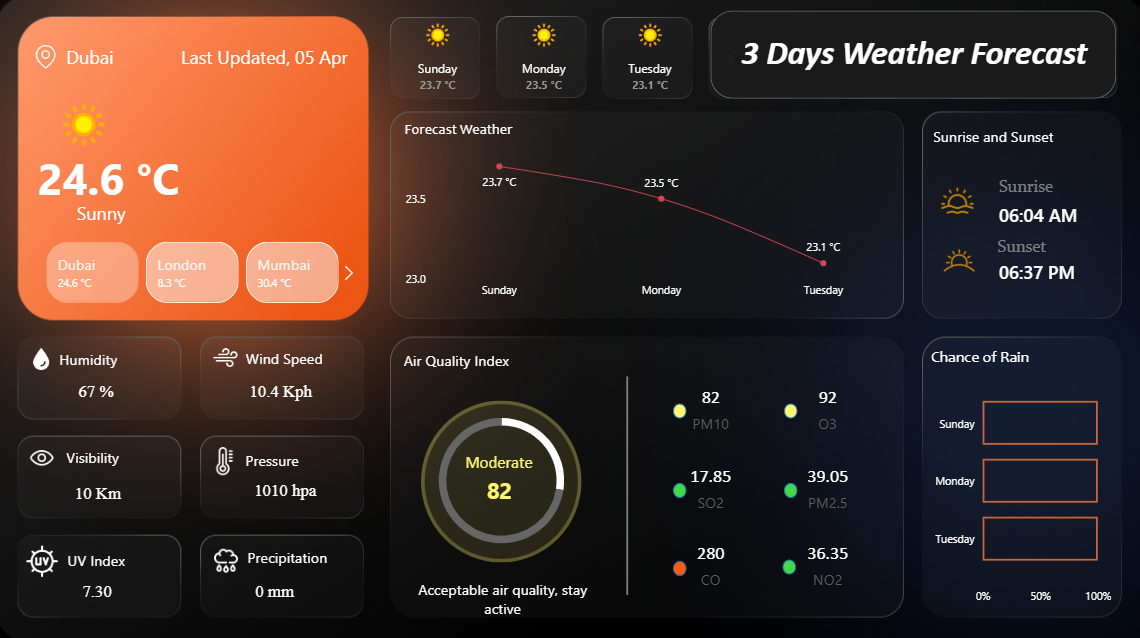

What the dashboard file says about the page in this screenshot:
{"tool":"powerbi","page":{"name":"Weather_Dashboard","canvas":[1280,720],"ordinal":0},"visuals":[{"type":"advancedSlicerVisual","fields":{"Values":["Location.location.name"]},"box":[30.9,266.8,377.4,78.1],"z":0},{"type":"shape","box":[39,136.6,226.1,126.9],"z":1000},{"type":"shape","box":[39,221.2,159.4,35.8],"z":2000},{"type":"shape","box":[177.3,48.8,218,35.8],"z":3000},{"type":"shape","box":[76.4,48.8,178.9,35.8],"z":4000},{"type":"image","box":[43.9,50.4,26,32.5],"z":5000},{"type":"cardVisual","fields":{"Data":["Min(Current.current.condition.icon)"]},"box":[21.4,0,167.1,200],"z":6000},{"type":"image","box":[36.6,496.9,30.8,30.8],"z":7000},{"type":"image","box":[241.4,380,28.6,41.4],"z":8000},{"type":"image","box":[38.6,387.1,25.7,31.4],"z":9000},{"type":"image","box":[234.3,610,42.9,32.9],"z":10000},{"type":"image","box":[207.1,500,97.1,31.4],"z":11000},{"type":"image","box":[11.4,608.6,81.4,37.1],"z":12000},{"type":"shape","box":[9.8,385.5,128.5,34.2],"z":13000},{"type":"shape","box":[239.1,383.9,128.5,34.2],"z":14000},{"type":"shape","box":[17.9,610,128.5,32.5],"z":15000},{"type":"shape","box":[13.5,493,127.1,34.7],"z":16000},{"type":"shape","box":[211.5,496.1,128.5,34.2],"z":17000},{"type":"shape","box":[244,605.1,128.5,34.2],"z":18000},{"type":"card","fields":{"Values":["_Measure.Humidity"]},"box":[45.1,407.8,133.5,61.4],"z":19000},{"type":"card","fields":{"Values":["_Measures.Wind_Speed"]},"box":[265.1,405,104.1,66.7],"z":20000},{"type":"card","fields":{"Values":["_Measure.Visibility"]},"box":[61.4,517.9,104.7,66.8],"z":21000},{"type":"card","fields":{"Values":["_Measure.Pressure"]},"box":[270,515.6,104.1,66.7],"z":22000},{"type":"card","fields":{"Values":["_Measure.UV_Index"]},"box":[61.4,628,102.9,65],"z":23000},{"type":"card","fields":{"Values":["_Measure.Precipitation"]},"box":[258,628,104,66],"z":24000},{"type":"advancedSlicerVisual","fields":{"Values":["Forecast_Day.Day_Name"]},"box":[432,14,356,110],"z":25000},{"type":"lineChart","title":"Forecast Weather","fields":{"Y":["Sum(Forecast_Day.forecast.forecastday.day.avgtemp_c)"],"Category":["Forecast_Day.Day_Name"]},"box":[450.8,137.2,547,206.7],"z":26000},{"type":"shape","box":[1040,138.3,205,33.3],"z":27000},{"type":"shape","box":[1112.6,226.1,144.8,30.9],"z":28000},{"type":"shape","box":[1112.6,289.5,144.8,30.9],"z":29000},{"type":"shape","box":[1112.8,194.9,144.8,30.9],"z":30000},{"type":"shape","box":[1112,262,146,32],"z":31000},{"type":"image","box":[1048,268,46,48],"z":32000},{"type":"image","box":[1045.9,208.2,45.5,35.8],"z":33000},{"type":"hundredPercentStackedBarChart","title":"Chance of Rain","fields":{"Y":["Avg(Forecast_Day.forecast.forecastday.day.daily_chance_of_rain)","_Measures.Left_value_rain"],"Category":["Forecast_Day.Day_Name"]},"box":[1035,388.3,210,295],"z":34000},{"type":"shape","box":[451.7,386.7,205,33.3],"z":35000},{"type":"card","fields":{"Values":["Sum(Current.current.air_quality.o3)"]},"box":[873.3,421.7,103.3,66.7],"z":36000},{"type":"card","fields":{"Values":["Sum(Current.current.air_quality.so2)"]},"box":[743.3,510,103.3,66.7],"z":37000},{"type":"card","fields":{"Values":["Sum(Current.current.air_quality.no2)"]},"box":[873.3,595,103.3,66.7],"z":38000},{"type":"card","fields":{"Values":["Sum(Current.current.air_quality.pm2_5)"]},"box":[873.3,510,103.3,66.7],"z":39000},{"type":"card","fields":{"Values":["Sum(Current.current.air_quality.pm10)"]},"box":[743.3,421.7,103.3,66.7],"z":40000},{"type":"card","fields":{"Values":["Sum(Current.current.air_quality.co)"]},"box":[743.3,595,103.3,66.7],"z":41000},{"type":"shape","box":[473.3,448.3,178.3,180],"z":42000},{"type":"card","fields":{"Values":["Sum(Current.current.air_quality.pm10)"]},"box":[508.3,505,103.3,66.7],"z":43000},{"type":"shape","box":[672.1,421.8,61.6,242.7],"z":44000},{"type":"donutChart","fields":{"Y":["Sum(Current.current.air_quality.pm10)","_Measure.Left_Value_PM10"]},"box":[454.7,445.7,214.7,184.1],"z":45000},{"type":"shape","box":[461.7,641.7,205,53.3],"z":46000},{"type":"shape","box":[753.3,451.7,15,16.7],"z":47000},{"type":"shape","box":[753.3,626.7,15,16.7],"z":48000},{"type":"shape","box":[753.3,540,15,16.7],"z":49000},{"type":"shape","box":[876.7,451.7,15,16.7],"z":50000},{"type":"shape","box":[876.7,540,15,16.7],"z":51000},{"type":"shape","box":[875,625,15,16.7],"z":52000},{"type":"shape","box":[794.7,14.3,450.8,98],"z":53000},{"type":"textbox","box":[787.6,33.9,450.8,92.7],"z":54000}]}

Visuals, with their boxes in screenshot pixels (x1, y1, x2, y2), scaled from the page's 1280x720 canvas onto the 1140x638 screenshot:
advancedSlicerVisual - Location.location.name: x1=28 y1=236 x2=364 y2=306
shape: x1=35 y1=121 x2=236 y2=233
shape: x1=35 y1=196 x2=177 y2=228
shape: x1=158 y1=43 x2=352 y2=75
shape: x1=68 y1=43 x2=227 y2=75
image: x1=39 y1=45 x2=62 y2=73
cardVisual - Min(Current.current.condition.icon): x1=19 y1=0 x2=168 y2=177
image: x1=33 y1=440 x2=60 y2=468
image: x1=215 y1=337 x2=240 y2=373
image: x1=34 y1=343 x2=57 y2=371
image: x1=209 y1=541 x2=247 y2=570
image: x1=184 y1=443 x2=271 y2=471
image: x1=10 y1=539 x2=83 y2=572
shape: x1=9 y1=342 x2=123 y2=372
shape: x1=213 y1=340 x2=327 y2=370
shape: x1=16 y1=541 x2=130 y2=569
shape: x1=12 y1=437 x2=125 y2=468
shape: x1=188 y1=440 x2=303 y2=470
shape: x1=217 y1=536 x2=332 y2=566
card - _Measure.Humidity: x1=40 y1=361 x2=159 y2=416
card - _Measures.Wind_Speed: x1=236 y1=359 x2=329 y2=418
card - _Measure.Visibility: x1=55 y1=459 x2=148 y2=518
card - _Measure.Pressure: x1=240 y1=457 x2=333 y2=516
card - _Measure.UV_Index: x1=55 y1=556 x2=146 y2=614
card - _Measure.Precipitation: x1=230 y1=556 x2=322 y2=615
advancedSlicerVisual - Forecast_Day.Day_Name: x1=385 y1=12 x2=702 y2=110
"Forecast Weather" lineChart: x1=401 y1=122 x2=889 y2=305
shape: x1=926 y1=123 x2=1109 y2=152
shape: x1=991 y1=200 x2=1120 y2=228
shape: x1=991 y1=257 x2=1120 y2=284
shape: x1=991 y1=173 x2=1120 y2=200
shape: x1=990 y1=232 x2=1120 y2=261
image: x1=933 y1=237 x2=974 y2=280
image: x1=932 y1=184 x2=972 y2=216
"Chance of Rain" hundredPercentStackedBarChart: x1=922 y1=344 x2=1109 y2=605
shape: x1=402 y1=343 x2=585 y2=372
card - Sum(Current.current.air_quality.o3): x1=778 y1=374 x2=870 y2=433
card - Sum(Current.current.air_quality.so2): x1=662 y1=452 x2=754 y2=511
card - Sum(Current.current.air_quality.no2): x1=778 y1=527 x2=870 y2=586
card - Sum(Current.current.air_quality.pm2_5): x1=778 y1=452 x2=870 y2=511
card - Sum(Current.current.air_quality.pm10): x1=662 y1=374 x2=754 y2=433
card - Sum(Current.current.air_quality.co): x1=662 y1=527 x2=754 y2=586
shape: x1=422 y1=397 x2=580 y2=557
card - Sum(Current.current.air_quality.pm10): x1=453 y1=447 x2=545 y2=507
shape: x1=599 y1=374 x2=653 y2=589
donutChart - Sum(Current.current.air_quality.pm10) x _Measure.Left_Value_PM10: x1=405 y1=395 x2=596 y2=558
shape: x1=411 y1=569 x2=594 y2=616
shape: x1=671 y1=400 x2=684 y2=415
shape: x1=671 y1=555 x2=684 y2=570
shape: x1=671 y1=478 x2=684 y2=493
shape: x1=781 y1=400 x2=794 y2=415
shape: x1=781 y1=478 x2=794 y2=493
shape: x1=779 y1=554 x2=793 y2=569
shape: x1=708 y1=13 x2=1109 y2=100
textbox: x1=701 y1=30 x2=1103 y2=112
